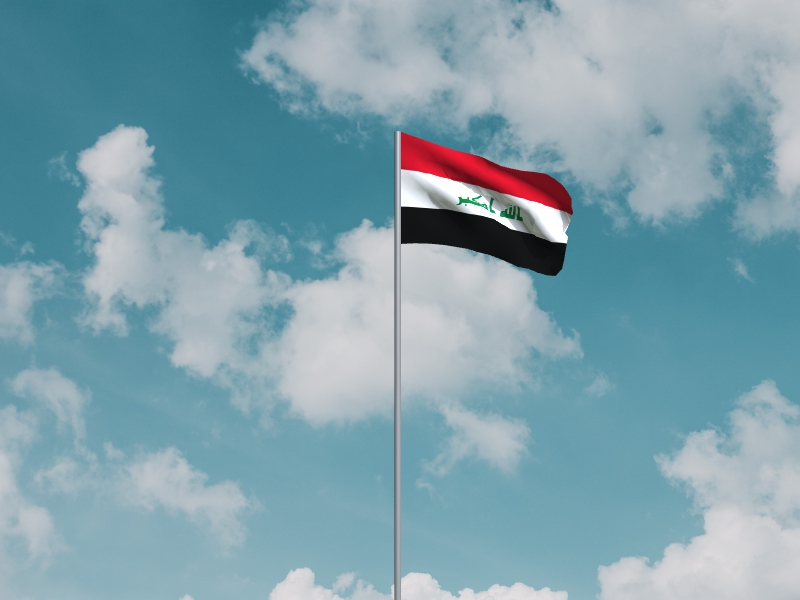iq: (402, 133, 574, 277)
